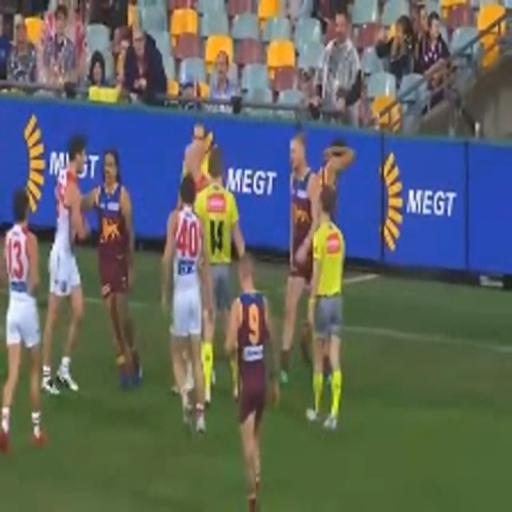nao-violencia: (31, 121, 146, 388)
